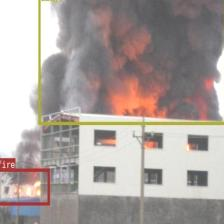fire: (0, 168, 49, 204)
smoke: (38, 0, 224, 124)
